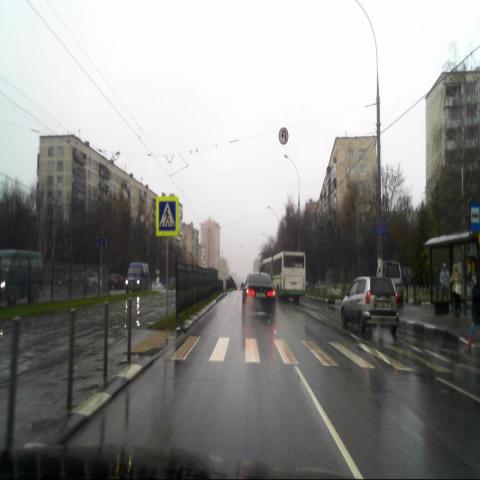5_16: (470, 205, 480, 232)
